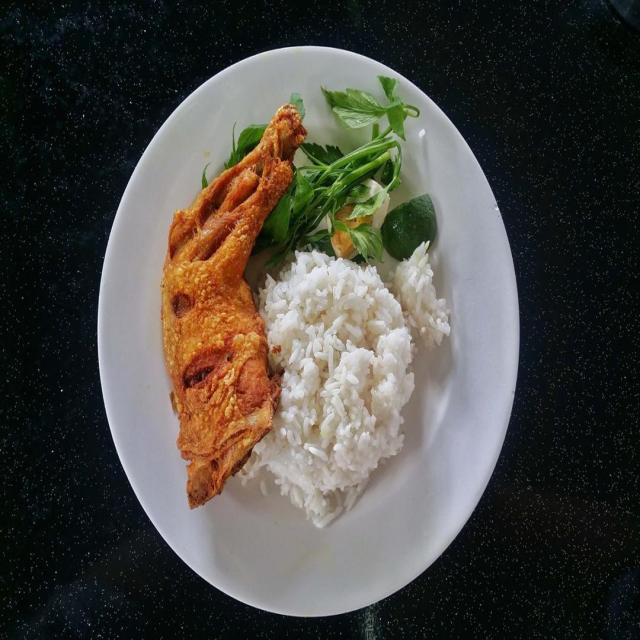Chicken: (162, 104, 306, 506)
Egg: (331, 176, 392, 261), (348, 224, 358, 226)
Plate: (98, 47, 518, 616)
Rice: (258, 249, 452, 523)
Vegetables: (263, 72, 420, 250)
